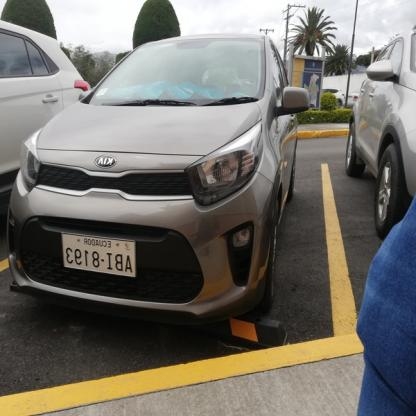Placa: (58, 233, 138, 276)
